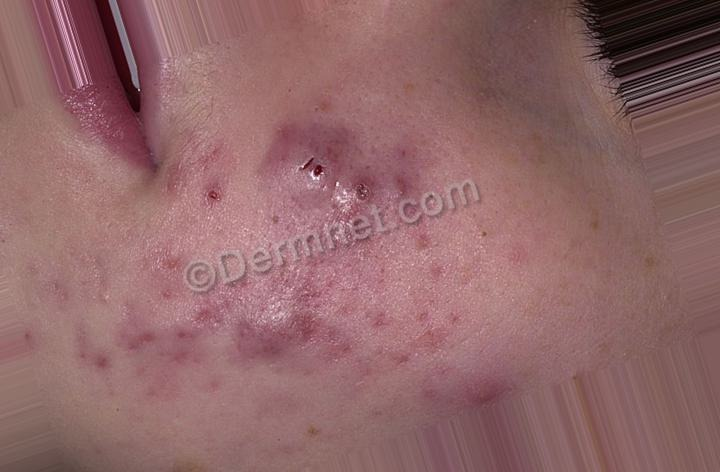Acne: (121, 134, 515, 388)
